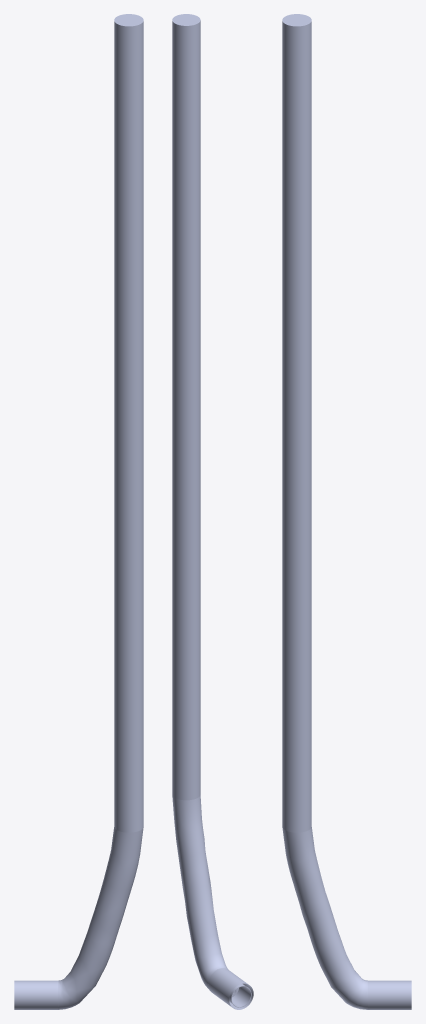
The model's file is ur3e_scaled_54.obj.
3 views of the same model, side by side, from view 1: azimuth 90°, elevation 25°; view 2: azimuth 210°, elevation 25°; view 3: azimuth 270°, elevation 25° (orthographic). The views are drawn at different scales.
Size of the model in its own units: 0.0123 by 0.4475 by 0.0531.
